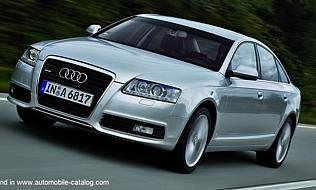front_view: (8, 41, 179, 151)
headlight: (124, 73, 181, 106)
side_glass: (230, 42, 290, 84)
